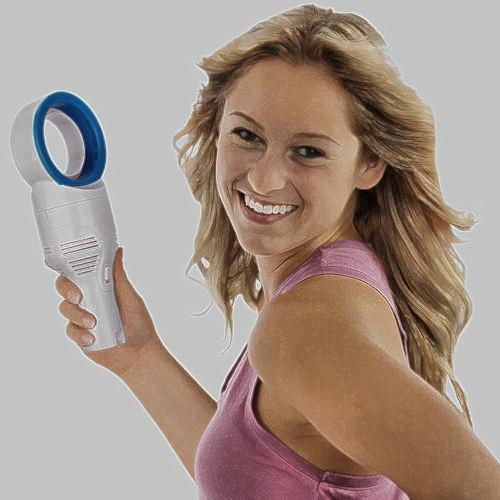fan: (17, 89, 158, 366)
